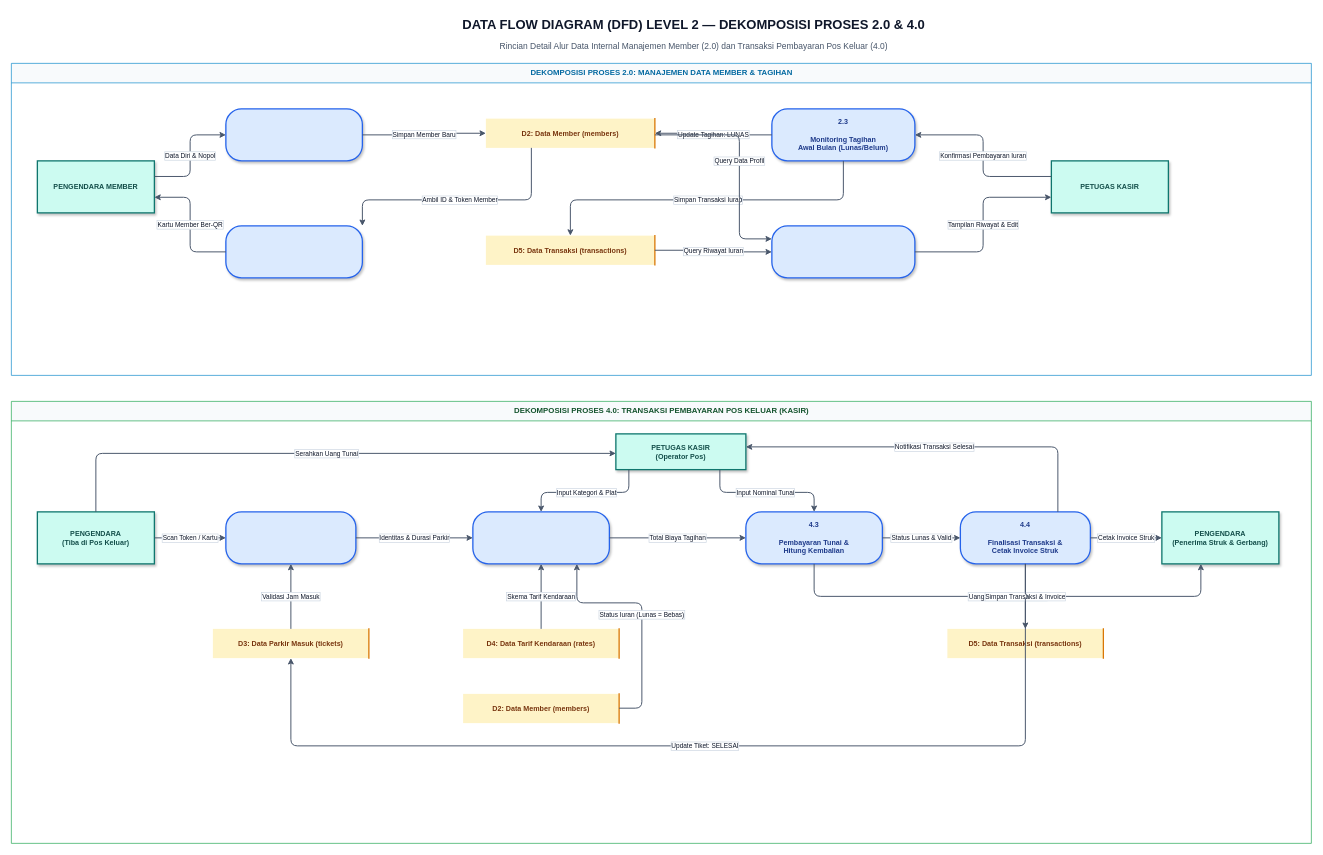
This 1323x855 diagram has some shape labels left out. Each missing label, with the centre of its shape:
2.1 Pendaftaran & Validasi Member Baru: pixel 294 135
2.2 Generate Barcode/QR & Format Kartu: pixel 294 252
2.4 Riwayat Pembayaran & Edit Profil Member: pixel 843 252
4.1 Identifikasi & Scan Masuk (Token / Kartu): pixel 291 538
4.2 Kalkulasi Tarif Parkir (Kategori, Nopol, Durasi): pixel 541 538
